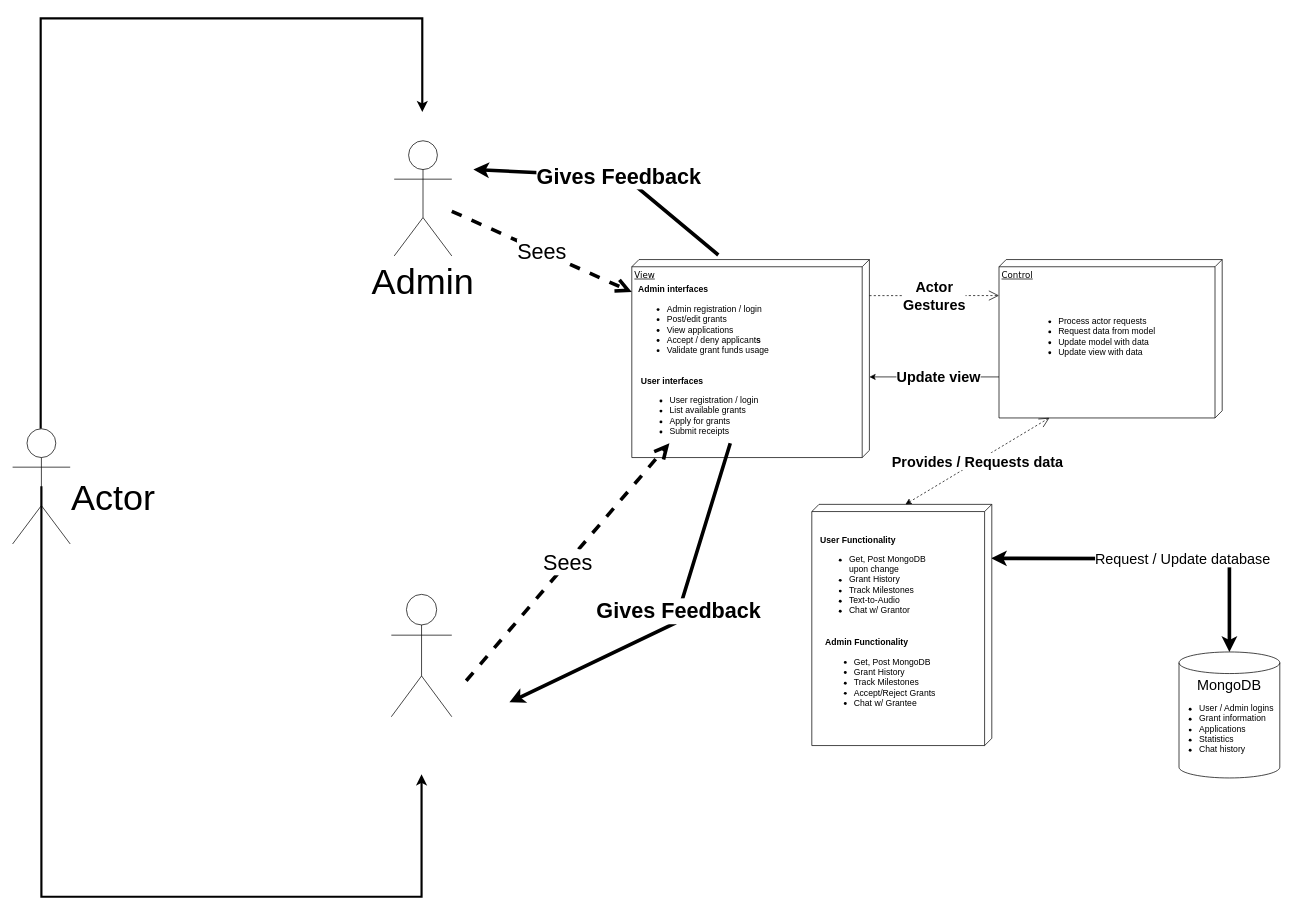
Some shapes in this 1300 by 916 pixel diagram are drawn without their labels. The box of each missing label's shape, as (x1, y1, x2, y2) in pixels:
Model: (811, 504, 992, 746)
User: (391, 594, 452, 717)
